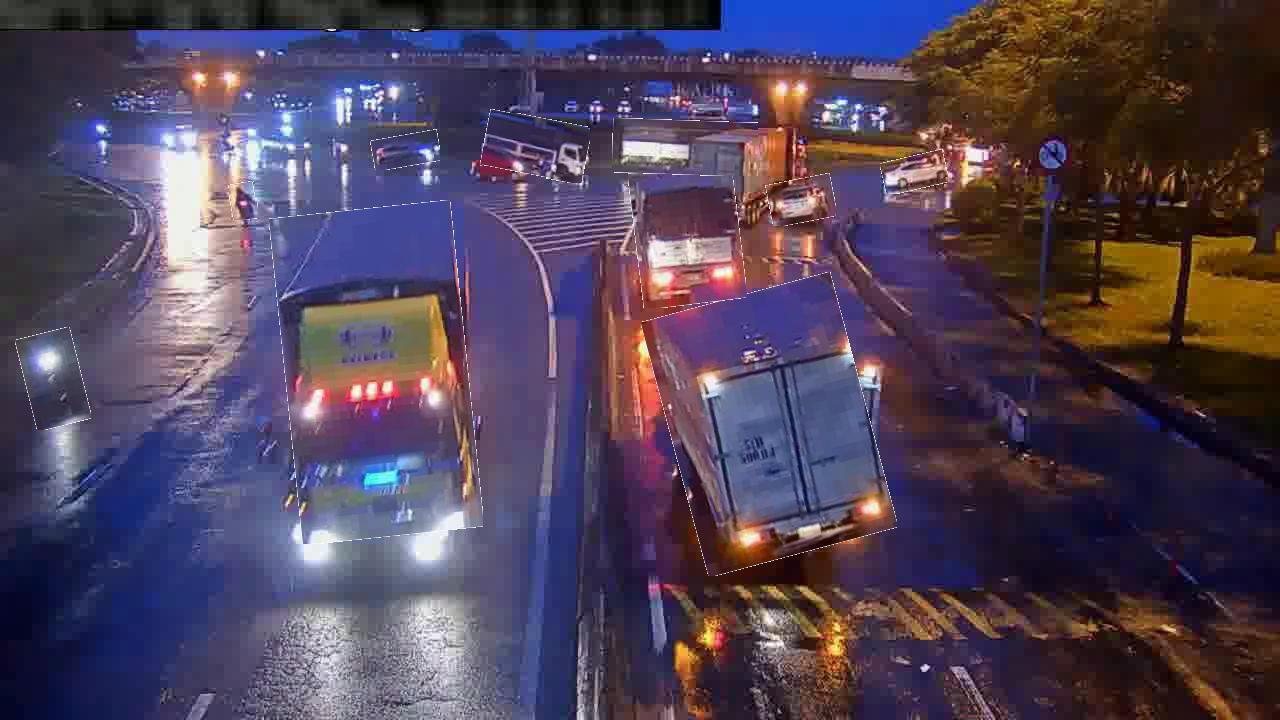8: (278, 205, 476, 541), (657, 283, 883, 567), (632, 164, 744, 307), (613, 120, 759, 176), (482, 114, 589, 180)
container: (767, 176, 836, 225), (882, 153, 948, 192), (371, 132, 440, 169)
motorbike: (21, 330, 87, 429), (230, 182, 258, 221)
